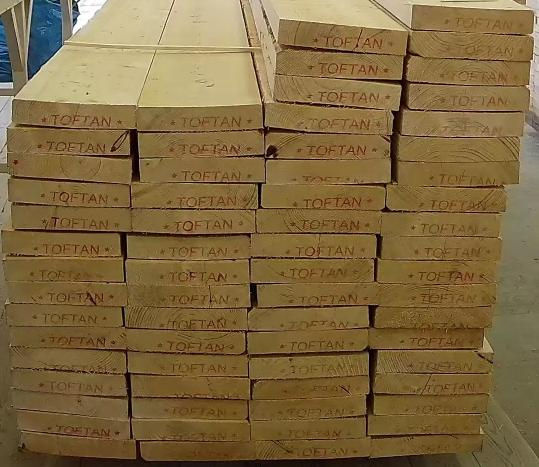Wood-Plank: (275, 75, 402, 113), (277, 21, 406, 55), (7, 152, 132, 184), (279, 49, 403, 80), (397, 107, 525, 137), (268, 103, 396, 133), (14, 99, 135, 130), (409, 30, 534, 60), (406, 54, 531, 84), (7, 126, 129, 156), (8, 177, 130, 207), (405, 82, 531, 111), (266, 131, 390, 160), (131, 182, 258, 210), (139, 130, 265, 158), (394, 134, 520, 162), (410, 5, 533, 33), (387, 184, 508, 212), (250, 352, 370, 380), (16, 412, 130, 441), (395, 161, 521, 187), (261, 185, 386, 211), (137, 105, 262, 131), (11, 391, 127, 419), (127, 235, 251, 261), (11, 205, 130, 232), (18, 433, 136, 460), (139, 157, 266, 182), (9, 348, 126, 375), (267, 160, 392, 185), (1, 232, 121, 258), (130, 375, 250, 401), (126, 261, 249, 286), (125, 306, 247, 331), (382, 212, 503, 237), (249, 306, 370, 331), (248, 330, 369, 355), (381, 236, 502, 261), (251, 235, 377, 259), (3, 257, 123, 282), (251, 260, 375, 284), (132, 210, 255, 234), (257, 284, 378, 308), (126, 331, 246, 355), (378, 261, 498, 285), (257, 211, 382, 234), (11, 372, 126, 397), (379, 284, 497, 308), (253, 376, 370, 400), (250, 397, 367, 421), (127, 354, 249, 377), (128, 285, 250, 308), (251, 417, 367, 441), (6, 283, 127, 306), (375, 351, 493, 374), (131, 419, 251, 441), (5, 305, 123, 327), (8, 328, 126, 350), (375, 307, 493, 329), (371, 436, 484, 458), (131, 399, 248, 420), (255, 440, 371, 461), (369, 415, 484, 436), (370, 329, 485, 350), (374, 374, 492, 394), (140, 442, 256, 462), (374, 396, 489, 416)
